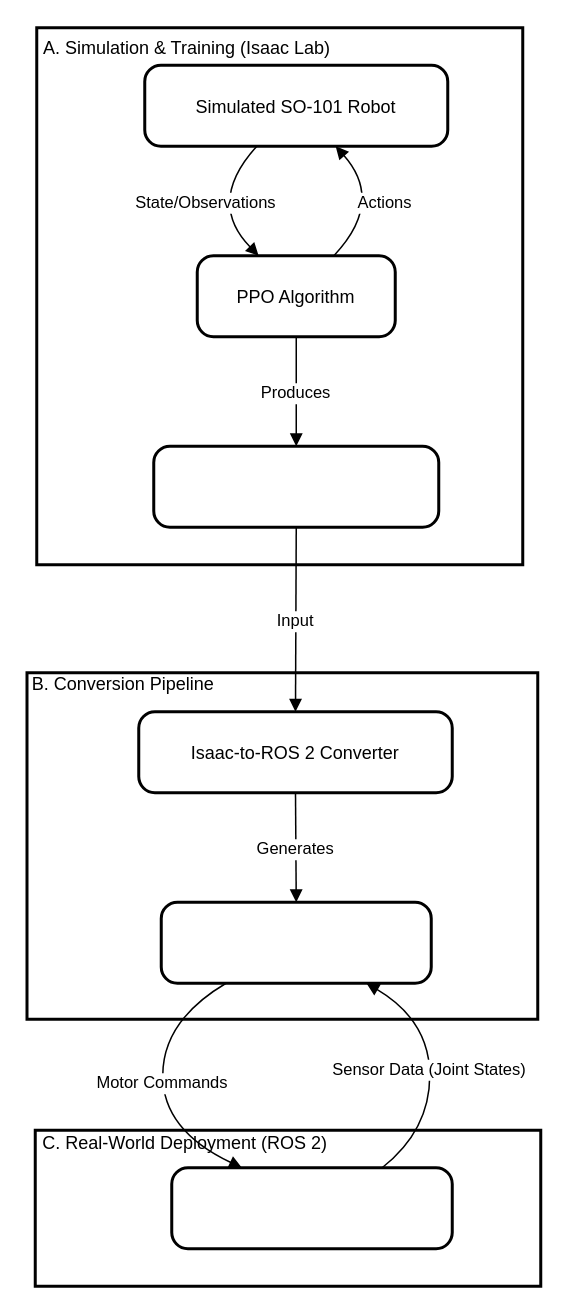
This 569x1313 diagram has some shape labels left out. The shapes that lost their labels are listed below. From the top down, each one's centre as x and y in pixels, then its label:
At point 296,486: "Trained Policy Weights".
At point 295,942: "ROS 2 Policy Package".
At point 311,1208: "Physical SO-101 Robot".
